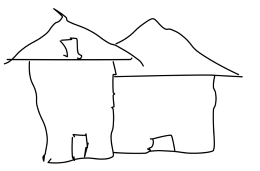big_house: (2, 1, 252, 169)
door: (140, 123, 182, 160), (59, 126, 94, 164)
roof: (102, 14, 243, 89), (5, 7, 141, 69)
